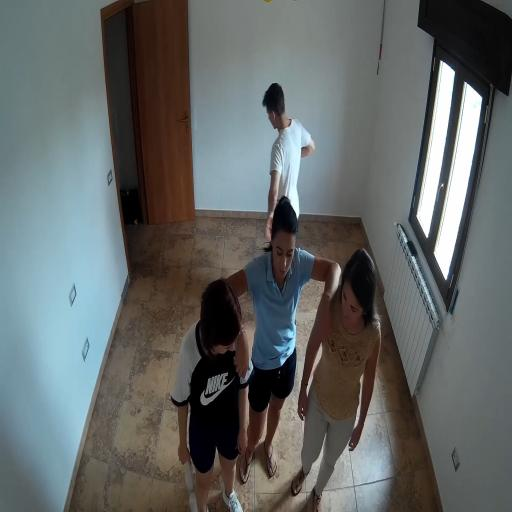nao-violencia: (168, 190, 387, 512)
